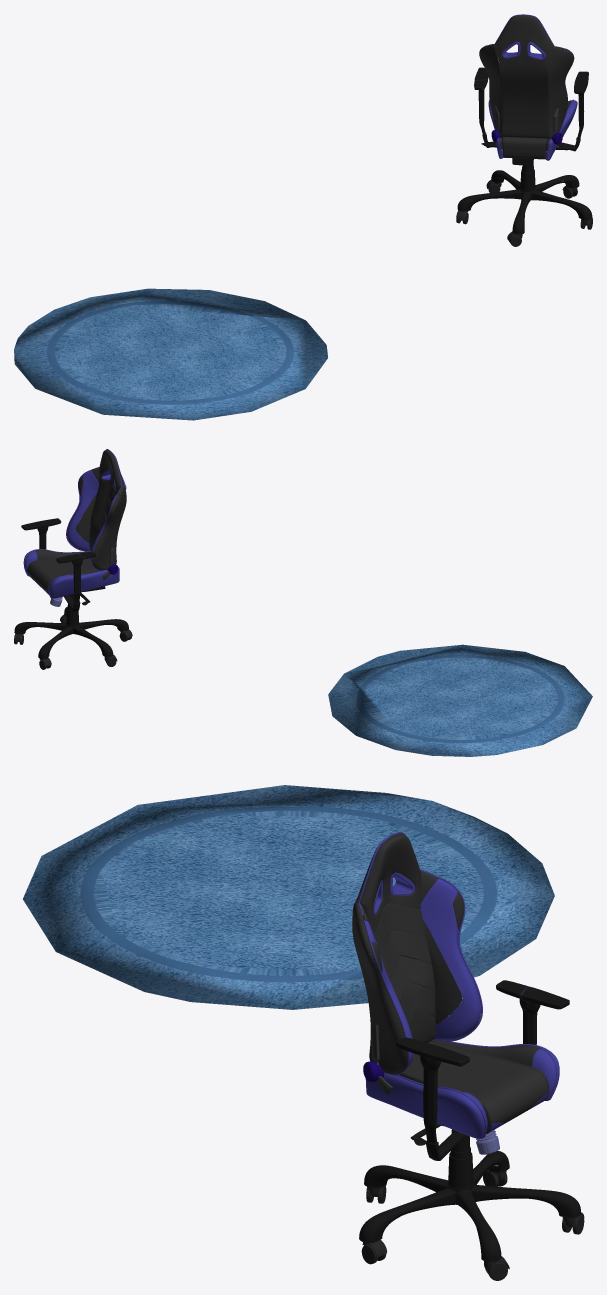
File: chair.glb
The picture shows the model from 3 angles, top to bottom: view 1: azimuth 30°, elevation 25°; view 2: azimuth 150°, elevation 25°; view 3: azimuth 270°, elevation 25°; orthographic projection. The views are drawn at different scales.
Visible parts, largest first — view 1: silla_carpet; view 2: silla_carpet; view 3: silla_carpet.
Part boxes in pixels (x1=…): silla_carpet: x1=14, y1=14, x2=592, y2=420; silla_carpet: x1=14, y1=449, x2=592, y2=756; silla_carpet: x1=23, y1=785, x2=584, y2=1280.
Bounding box in the file's own units: 4.44 × 1.58 × 2.11.
2 materials, 2 textured.
